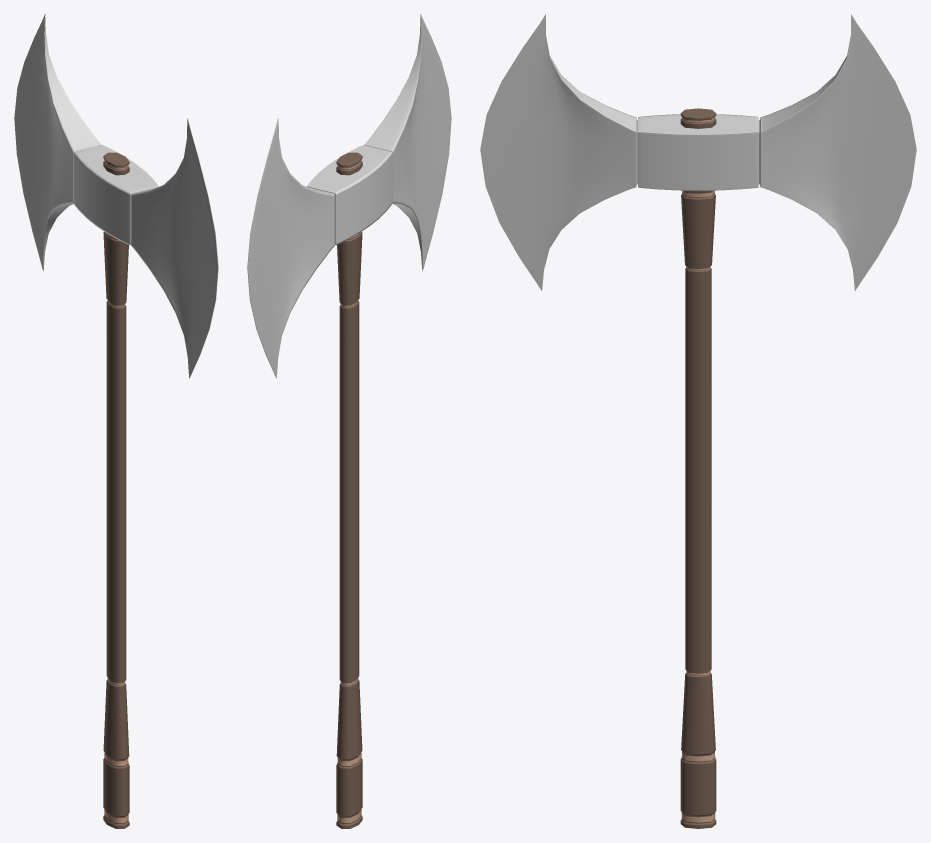
The model's file is Battleaxe.fbx.
3 renders of one model, left to right at view 1: azimuth 30°, elevation 25°; view 2: azimuth 150°, elevation 25°; view 3: azimuth 270°, elevation 25°, orthographic. The views are drawn at different scales.
Visible parts, largest first — view 1: pCube2, pCube1; view 2: pCube2, pCube1; view 3: pCube2, pCube1.
Part boxes in pixels (left/top/right/bottom): pCube2: left=14, top=14, right=218, bottom=378; pCube1: left=103, top=152, right=129, bottom=828; pCube2: left=247, top=14, right=451, bottom=378; pCube1: left=336, top=152, right=362, bottom=828; pCube2: left=480, top=14, right=916, bottom=290; pCube1: left=680, top=108, right=716, bottom=828.
Size of the model in its own units: 1.39 by 24.95 by 12.18.
